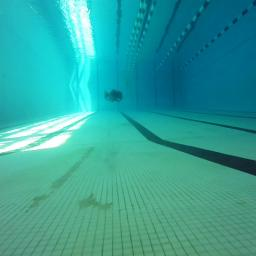Side: (104, 90, 122, 102)
